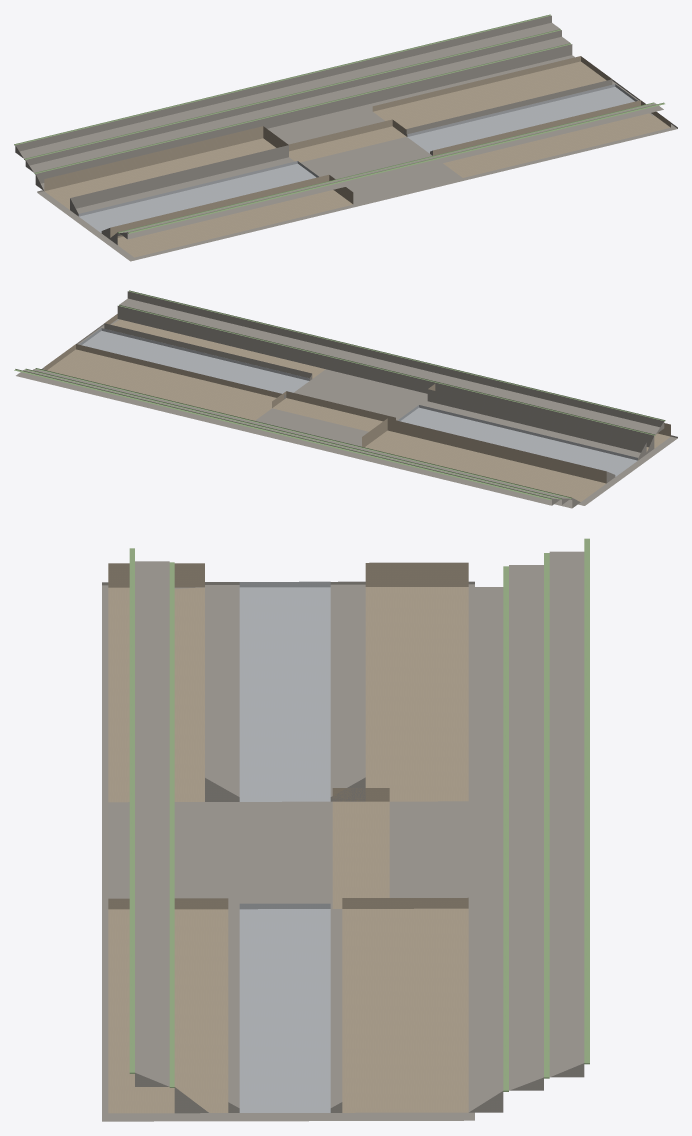
File: qishi-z1-terrain.glb
3 renders of one model, top to bottom at view 1: azimuth 30°, elevation 25°; view 2: azimuth 150°, elevation 25°; view 3: azimuth 270°, elevation 25°, orthographic. The views are drawn at different scales.
Parts seen in each view (by area): view 1: rock_terrain, earth_terrain, concreteDark_terrain, grass_terrain; view 2: rock_terrain, earth_terrain, concreteDark_terrain, grass_terrain; view 3: rock_terrain, earth_terrain, concreteDark_terrain, grass_terrain.
Boxes of the visible parts, box(x1,y1,x2,y2) form: rock_terrain: box(15, 15, 677, 261); earth_terrain: box(44, 56, 670, 257); concreteDark_terrain: box(78, 84, 637, 232); grass_terrain: box(14, 14, 664, 233); rock_terrain: box(16, 291, 677, 508); earth_terrain: box(44, 314, 670, 501); concreteDark_terrain: box(79, 328, 637, 476); grass_terrain: box(14, 290, 665, 500); rock_terrain: box(102, 551, 584, 1121); earth_terrain: box(108, 562, 468, 1113); concreteDark_terrain: box(239, 581, 330, 1112); grass_terrain: box(129, 538, 589, 1091).
Bounding box in the file's own units: 2000 × 96.42 × 772.
4 materials, 4 textured.
